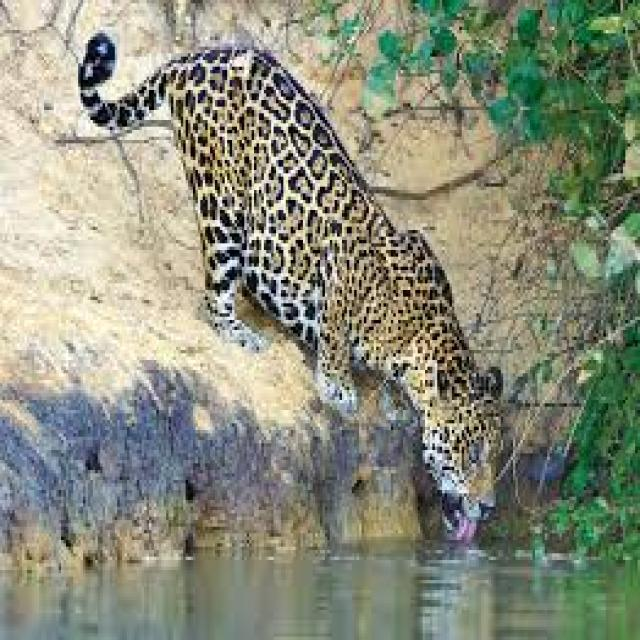Jaguar: (76, 30, 508, 550)
